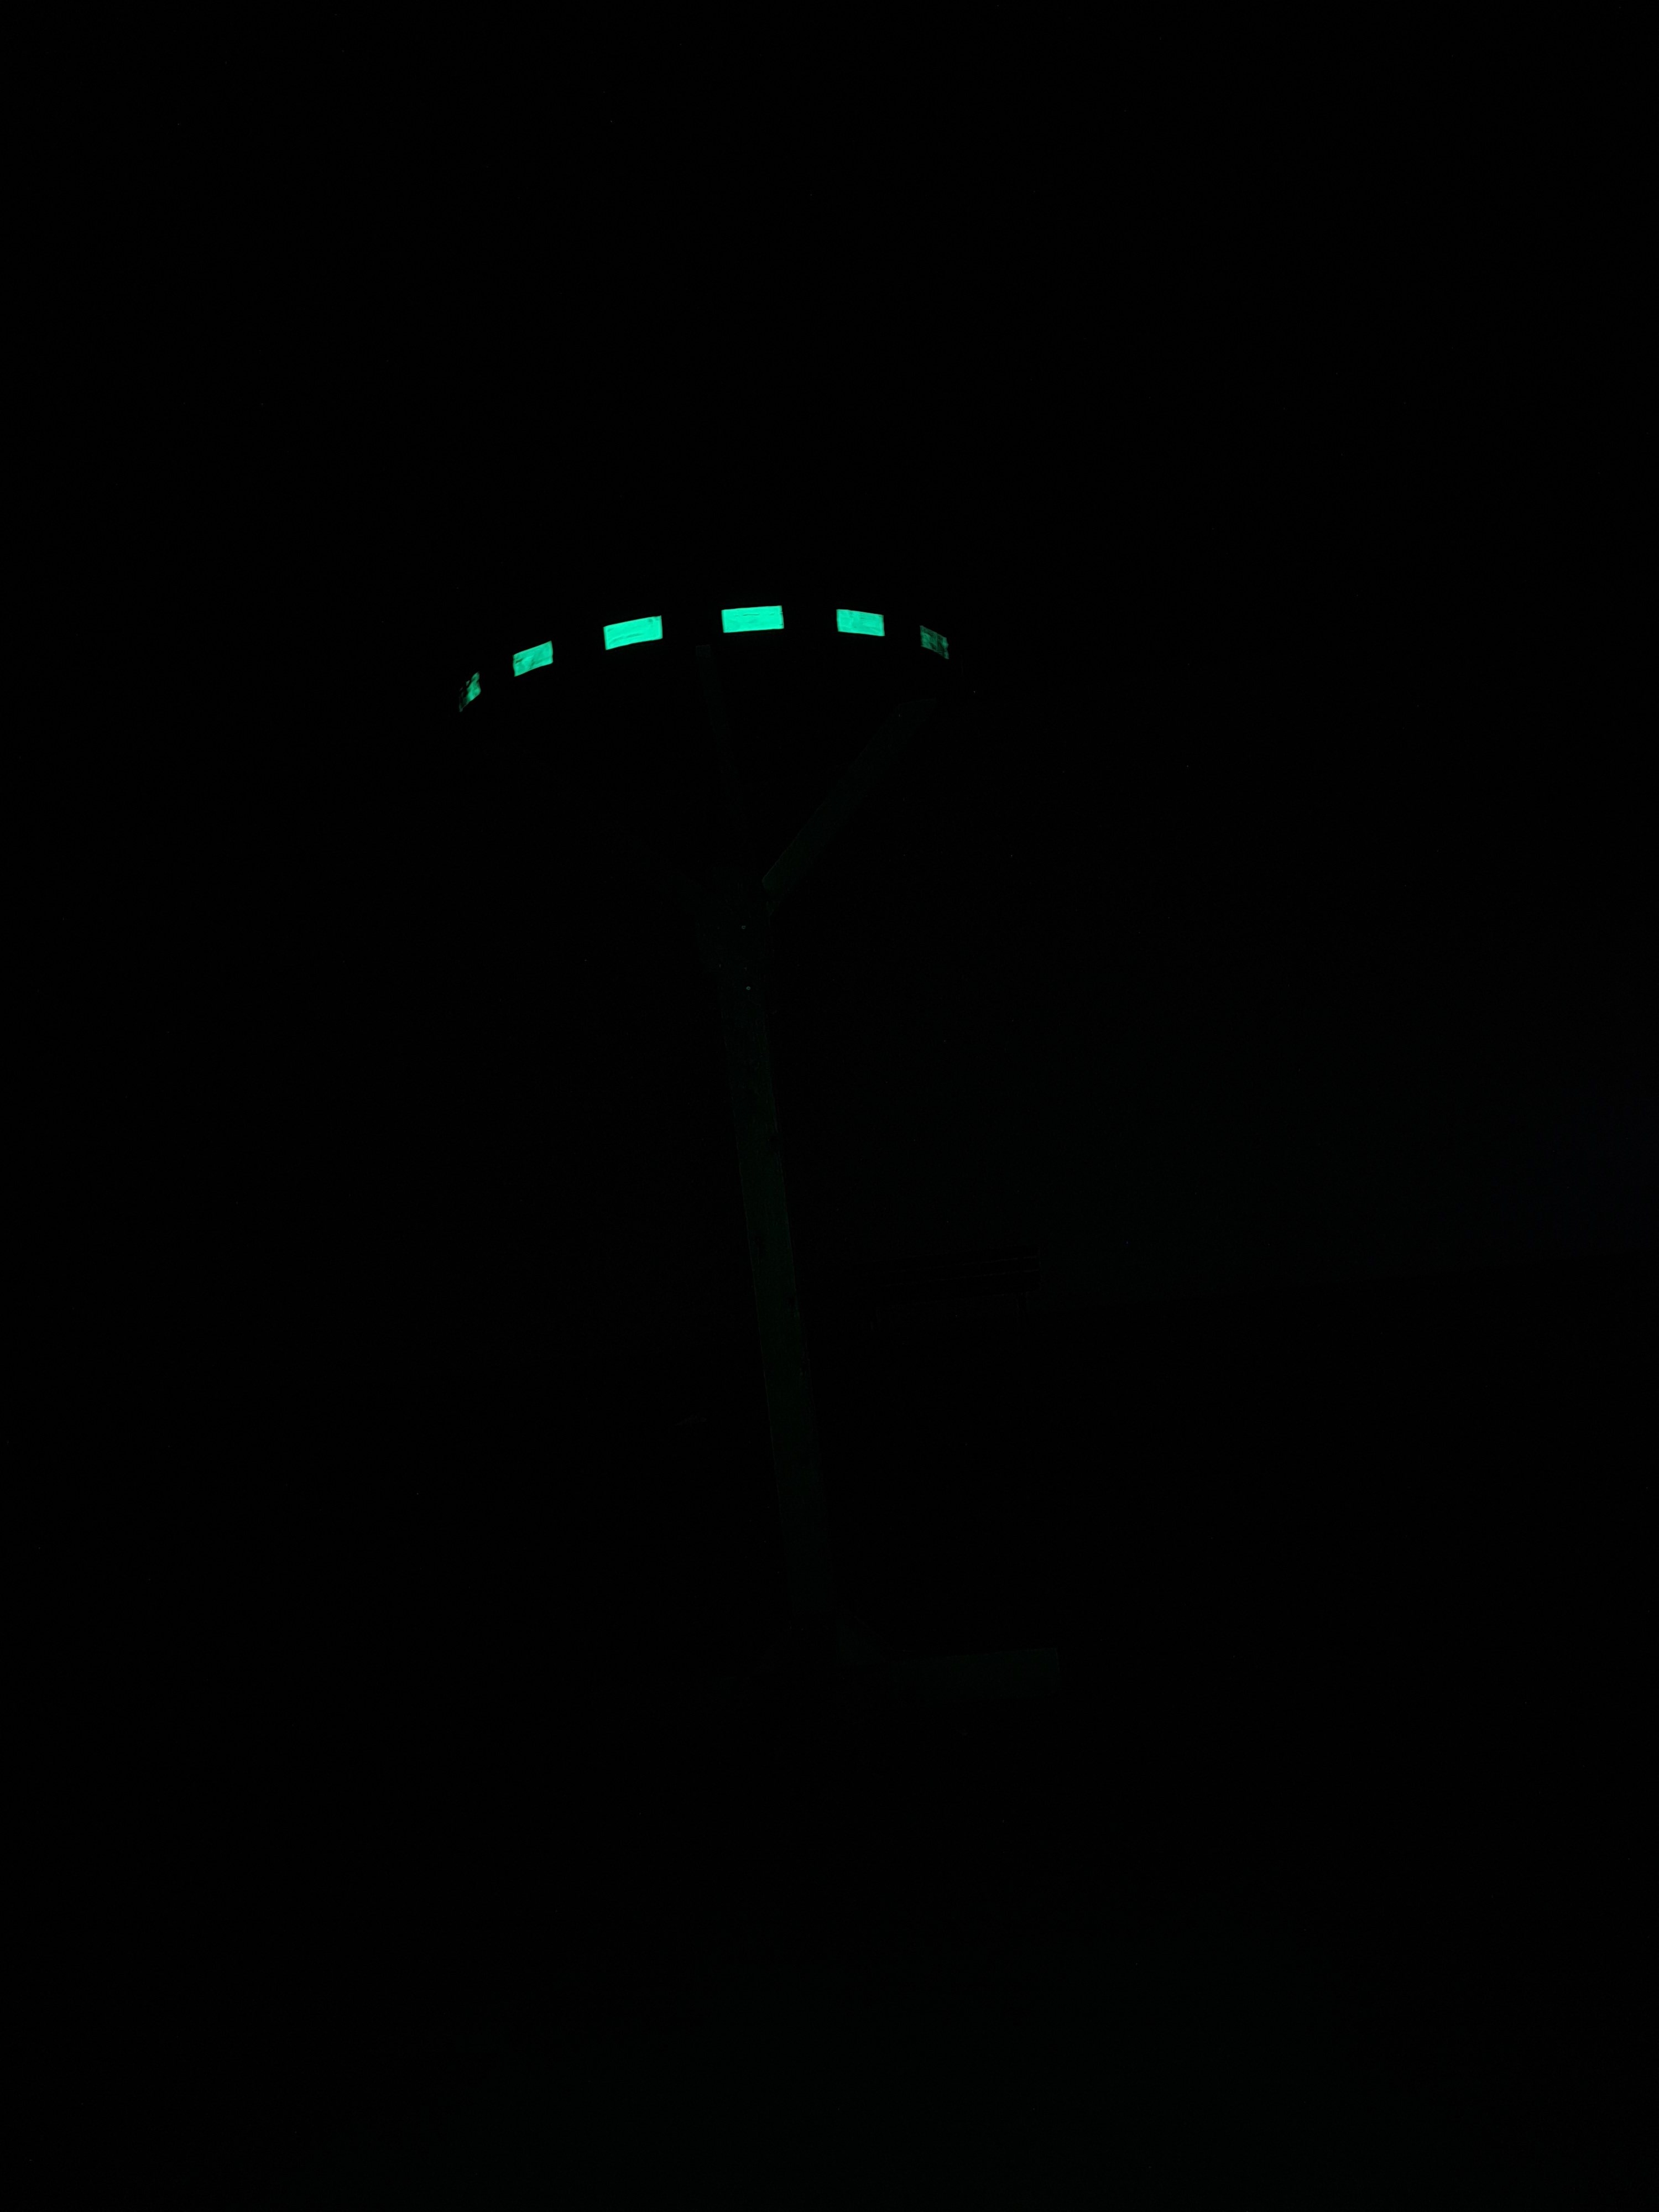hoop: (448, 603, 953, 714)
